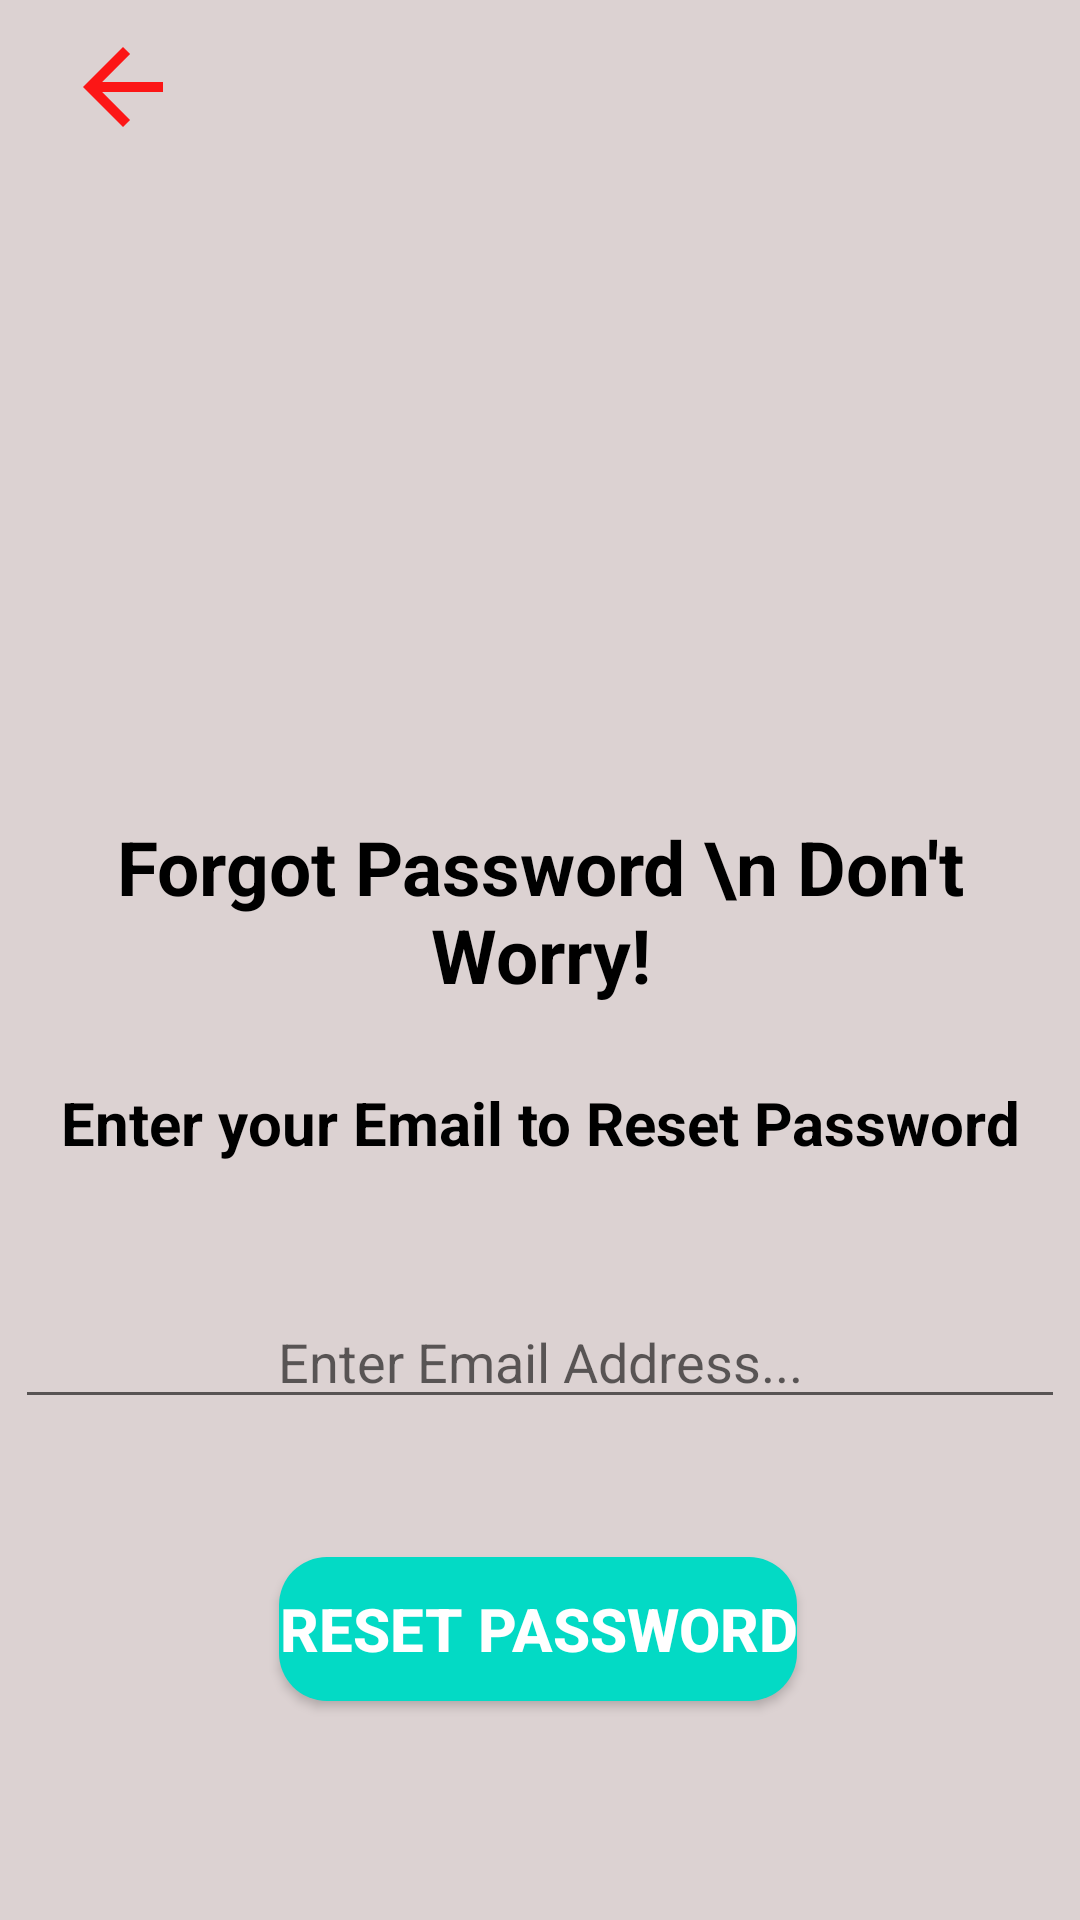

Locate icon controls on the screen. Image size 1080x1920, boxes as bbox=[x1, y1, x2, y2].
back: bbox=[83, 47, 163, 127]
